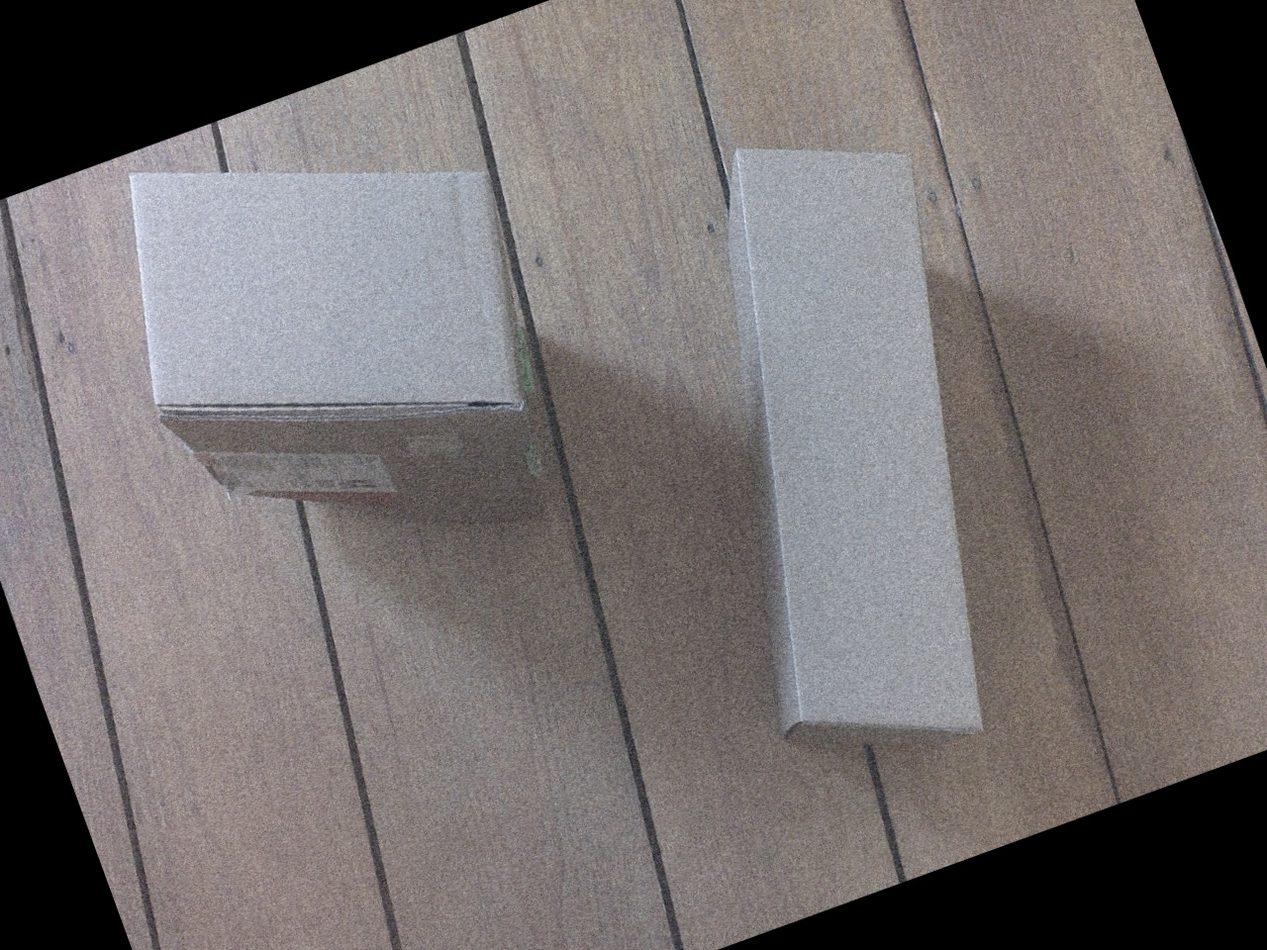good-parcel: (111, 153, 560, 553), (713, 141, 1004, 748)
